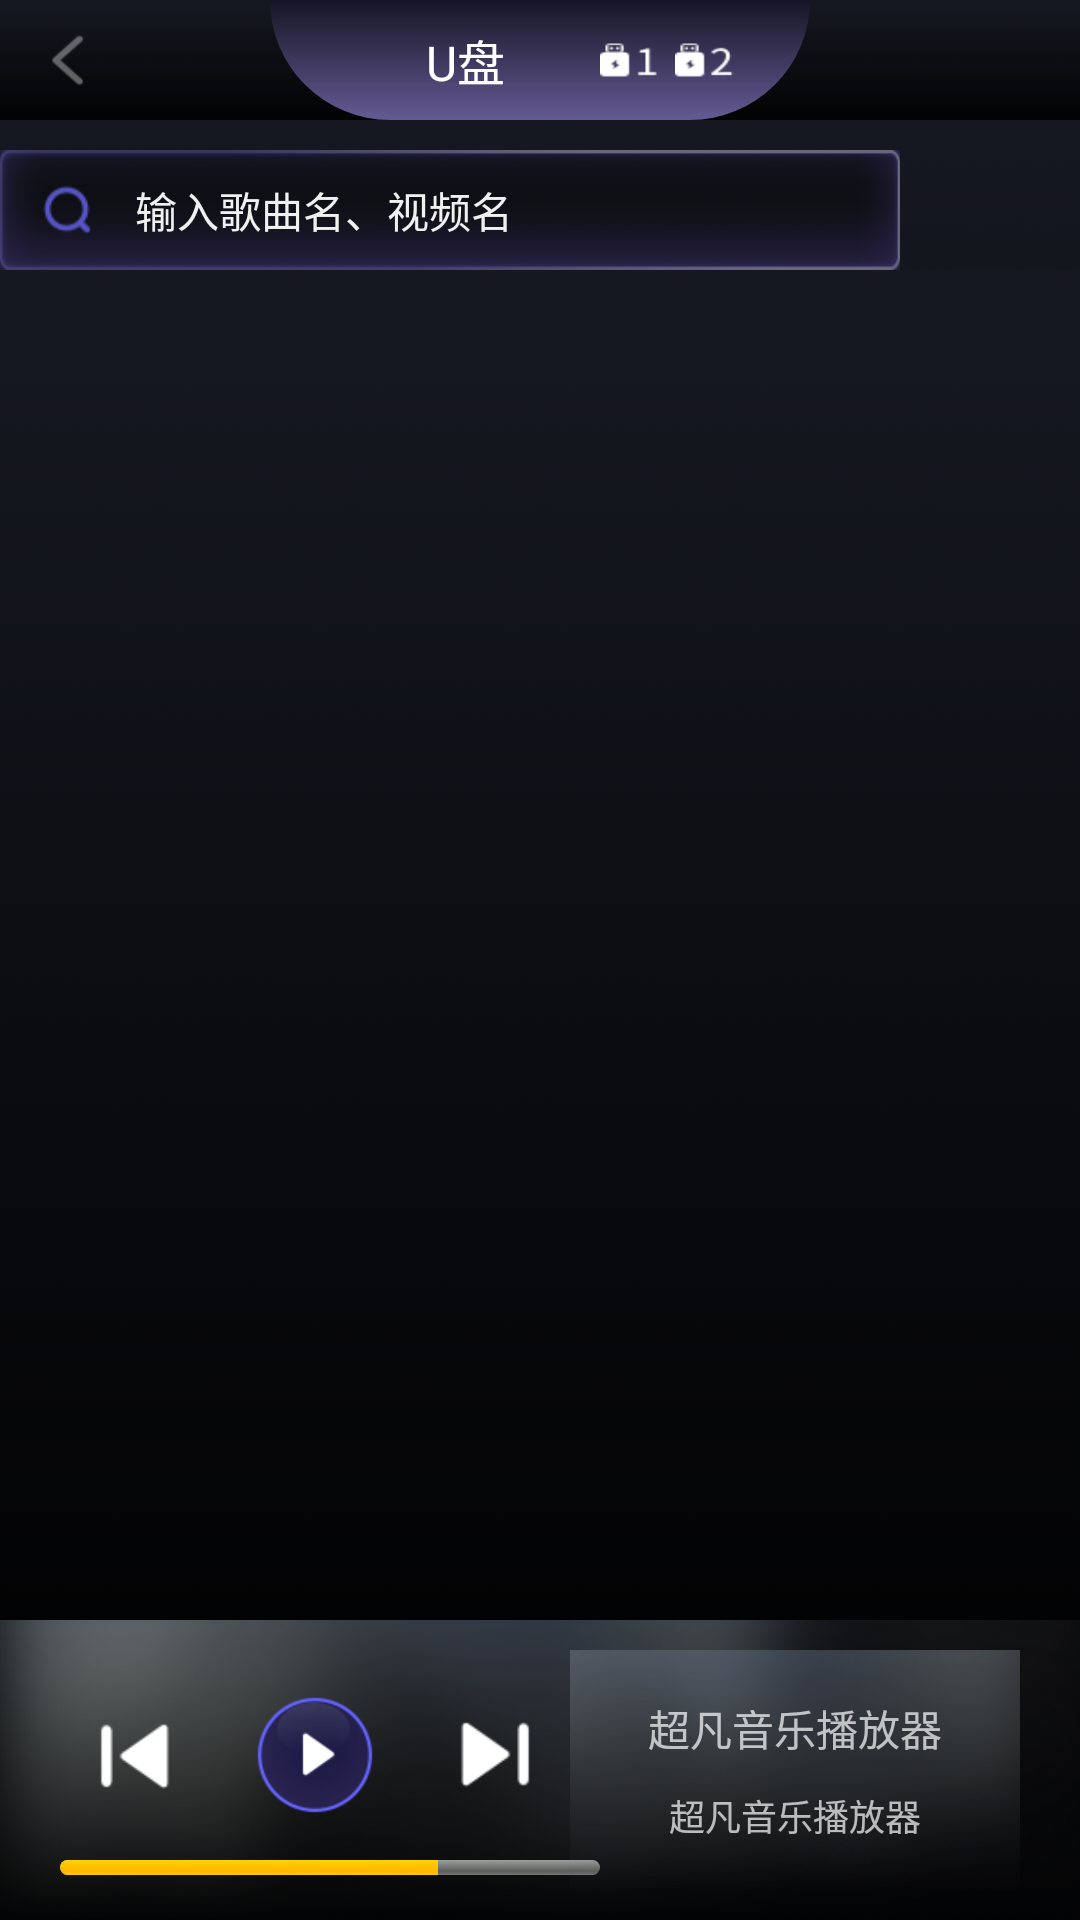

Named icons in this screenshot (1080 x 1920) and their centers, [x,y]:
udisk playbutton: [315,1755]
udisk qqmusicsearch: [67,210]
